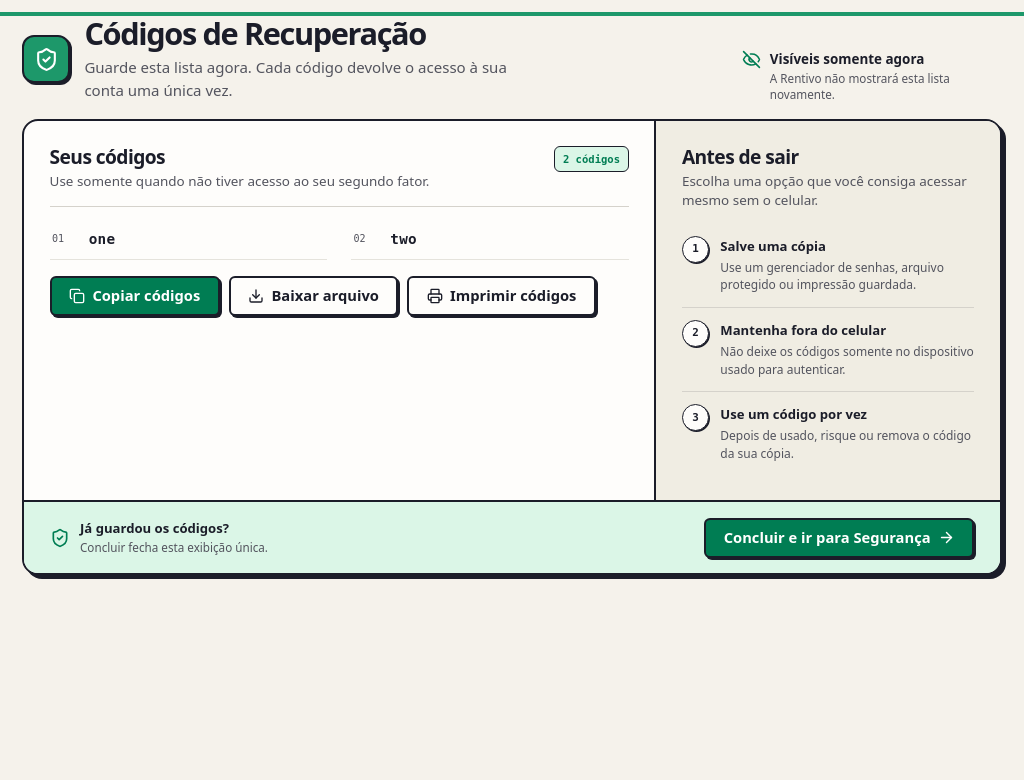
Test: copies one-time recovery codes and announces the result
Check: the text "one" is shown, box [89,231,115,247]
Click the button "Copiar códigos".
click(135, 296)  # box [50,276,220,316]
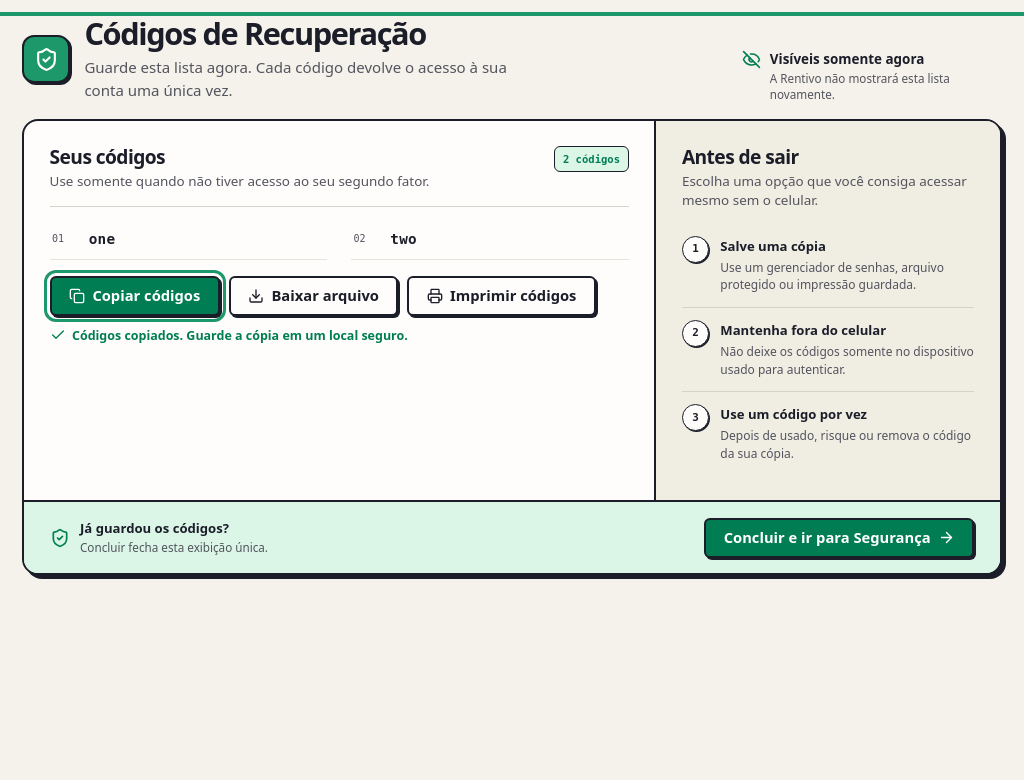
Check: the message reads "Códigos copiados. Guarde a cópia em um local seguro.", box [72,327,408,344]
